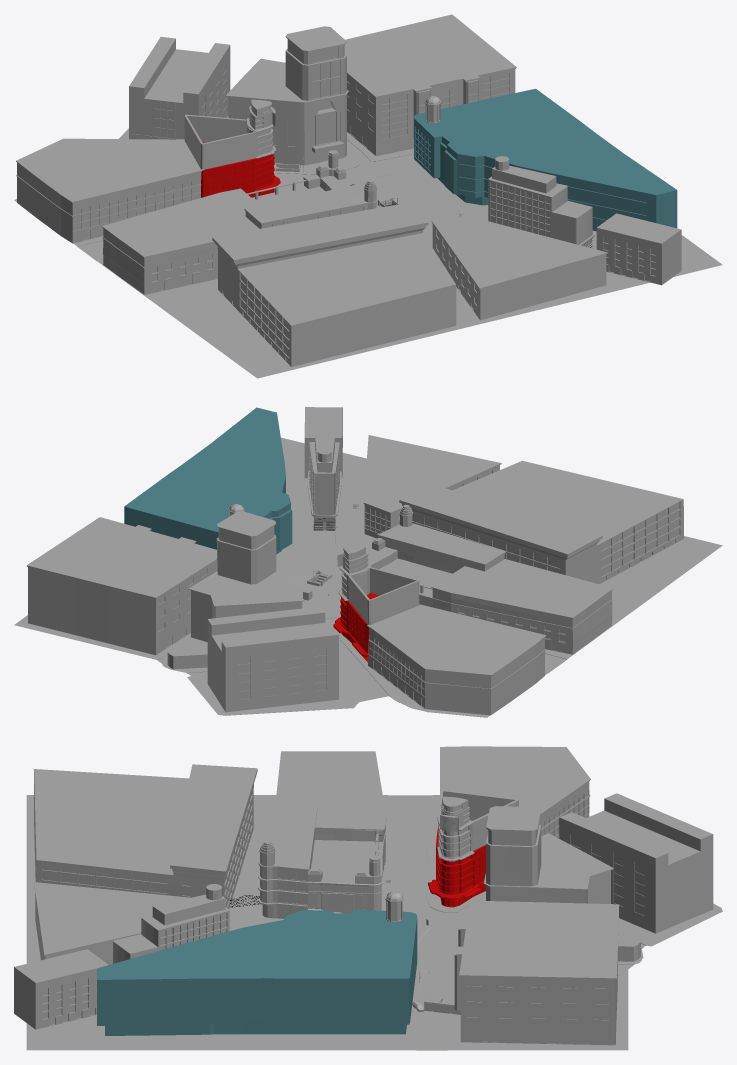
Rendered from uvs_Callao.fbx.
The picture shows the model from 3 angles, top to bottom: view 1: azimuth 30°, elevation 25°; view 2: azimuth 150°, elevation 25°; view 3: azimuth 270°, elevation 25°; orthographic projection. The views are drawn at different scales.
Parts seen in each view (by area): view 1: Edif_8, Edif_7, Suelo, Edif_3, Edif_4, Edif_9, Edif_2, Edif_5, Edif_1, FNACTecho, Edif_10, CapitolMed (+5 smaller); view 2: Edif_8, Suelo, Edif_3, Edif_4, Edif_7, Edif_1, Edif_5, Edif_2, Edif_9, Edif_6, CapitolMed, Cines (+5 smaller); view 3: Edif_7, Suelo, Edif_8, Edif_3, Edif_1, Edif_2, Edif_4, Edif_9, Cines, Edif_5, Edif_10, Edif_6 (+7 smaller).
Part boxes in pixels (x1,y1,x2,y2): Edif_8: (212, 201, 456, 366); Edif_7: (414, 89, 677, 231); Suelo: (14, 115, 722, 378); Edif_3: (344, 14, 516, 156); Edif_4: (16, 138, 204, 243); Edif_9: (431, 215, 607, 320); Edif_2: (225, 26, 348, 165); Edif_5: (101, 193, 259, 294); Edif_1: (129, 37, 230, 139); FNACTecho: (488, 176, 594, 245); Edif_10: (596, 213, 681, 285); CapitolMed: (184, 114, 273, 169); Edif_8: (399, 460, 683, 584); Suelo: (14, 437, 722, 717); Edif_3: (26, 517, 217, 655); Edif_4: (367, 604, 546, 715); Edif_7: (124, 407, 292, 554); Edif_1: (207, 606, 338, 712); Edif_5: (451, 559, 613, 654); Edif_2: (167, 511, 304, 669); Edif_9: (363, 435, 501, 538); Edif_6: (377, 504, 505, 573); CapitolMed: (341, 567, 419, 624); Cines: (347, 538, 483, 611); Edif_7: (97, 909, 417, 1035); Suelo: (26, 795, 722, 1050); Edif_8: (34, 764, 257, 908); Edif_3: (454, 900, 619, 1045); Edif_1: (559, 793, 713, 933); Edif_2: (483, 806, 640, 961); Edif_4: (440, 746, 590, 838); Edif_9: (34, 882, 190, 964); Cines: (307, 816, 386, 913); Edif_5: (275, 751, 386, 845); Edif_10: (14, 949, 108, 1029); Edif_6: (258, 805, 317, 918).
Size of the model in its own units: 720 by 216 by 841.
